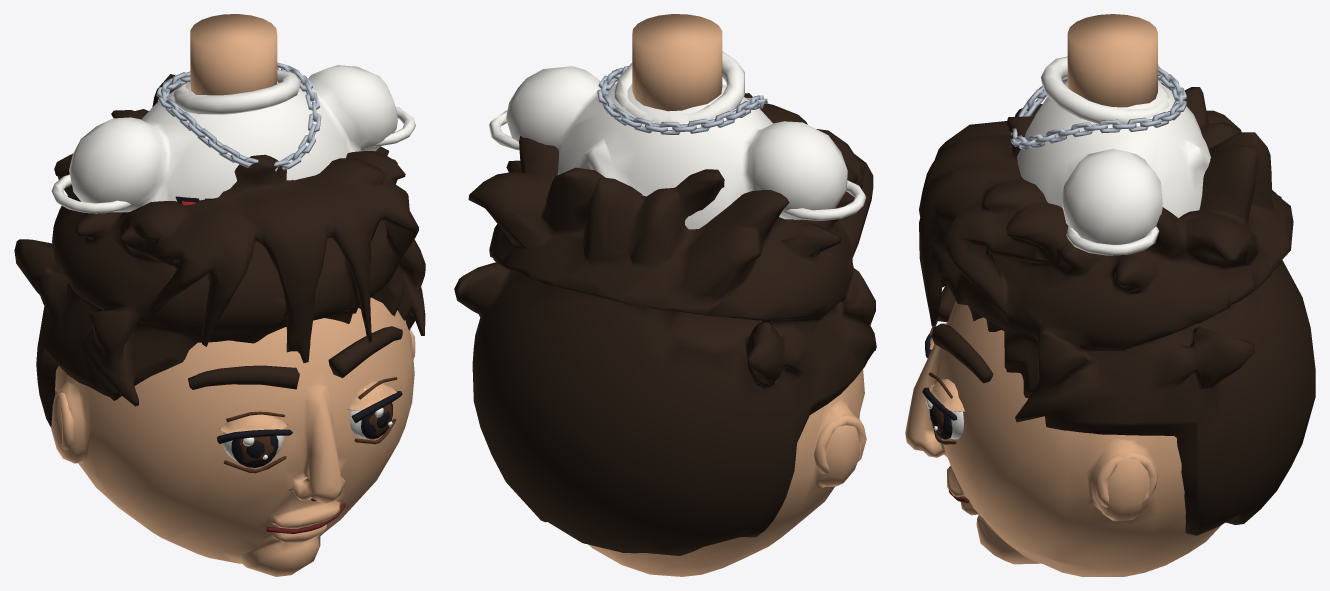
Rendered from snacky-low.glb.
The picture shows the model from 3 angles, left to right: view 1: azimuth 30°, elevation 25°; view 2: azimuth 150°, elevation 25°; view 3: azimuth 270°, elevation 25°; orthographic projection. The views are drawn at different scales.
Visible parts, largest first — view 1: snacky_Head, snacky_Top, snacky_Body, snacky_Chain; view 2: snacky_Head, snacky_Top, snacky_Body, snacky_Chain; view 3: snacky_Head, snacky_Top, snacky_Body, snacky_Chain.
Boxes of the visible parts, x1,y1,x2,y2 form: snacky_Head: [14, 74, 425, 576]; snacky_Top: [51, 65, 415, 213]; snacky_Body: [190, 14, 277, 95]; snacky_Chain: [156, 62, 321, 171]; snacky_Head: [454, 93, 876, 576]; snacky_Top: [489, 51, 866, 229]; snacky_Body: [632, 14, 722, 111]; snacky_Chain: [597, 66, 767, 134]; snacky_Head: [905, 81, 1315, 576]; snacky_Top: [1017, 56, 1210, 255]; snacky_Body: [1067, 14, 1157, 107]; snacky_Chain: [1010, 67, 1186, 149].
Size of the model in its own units: 0.2518 by 0.3529 by 0.2449.
